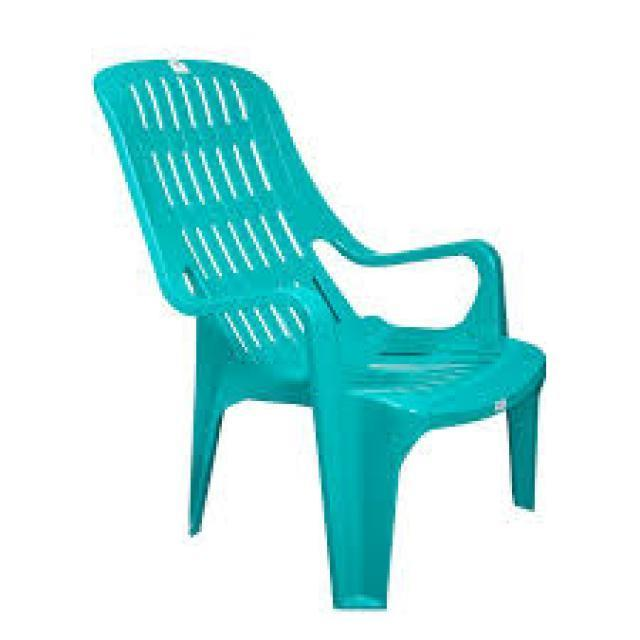chair: (90, 56, 548, 611)
